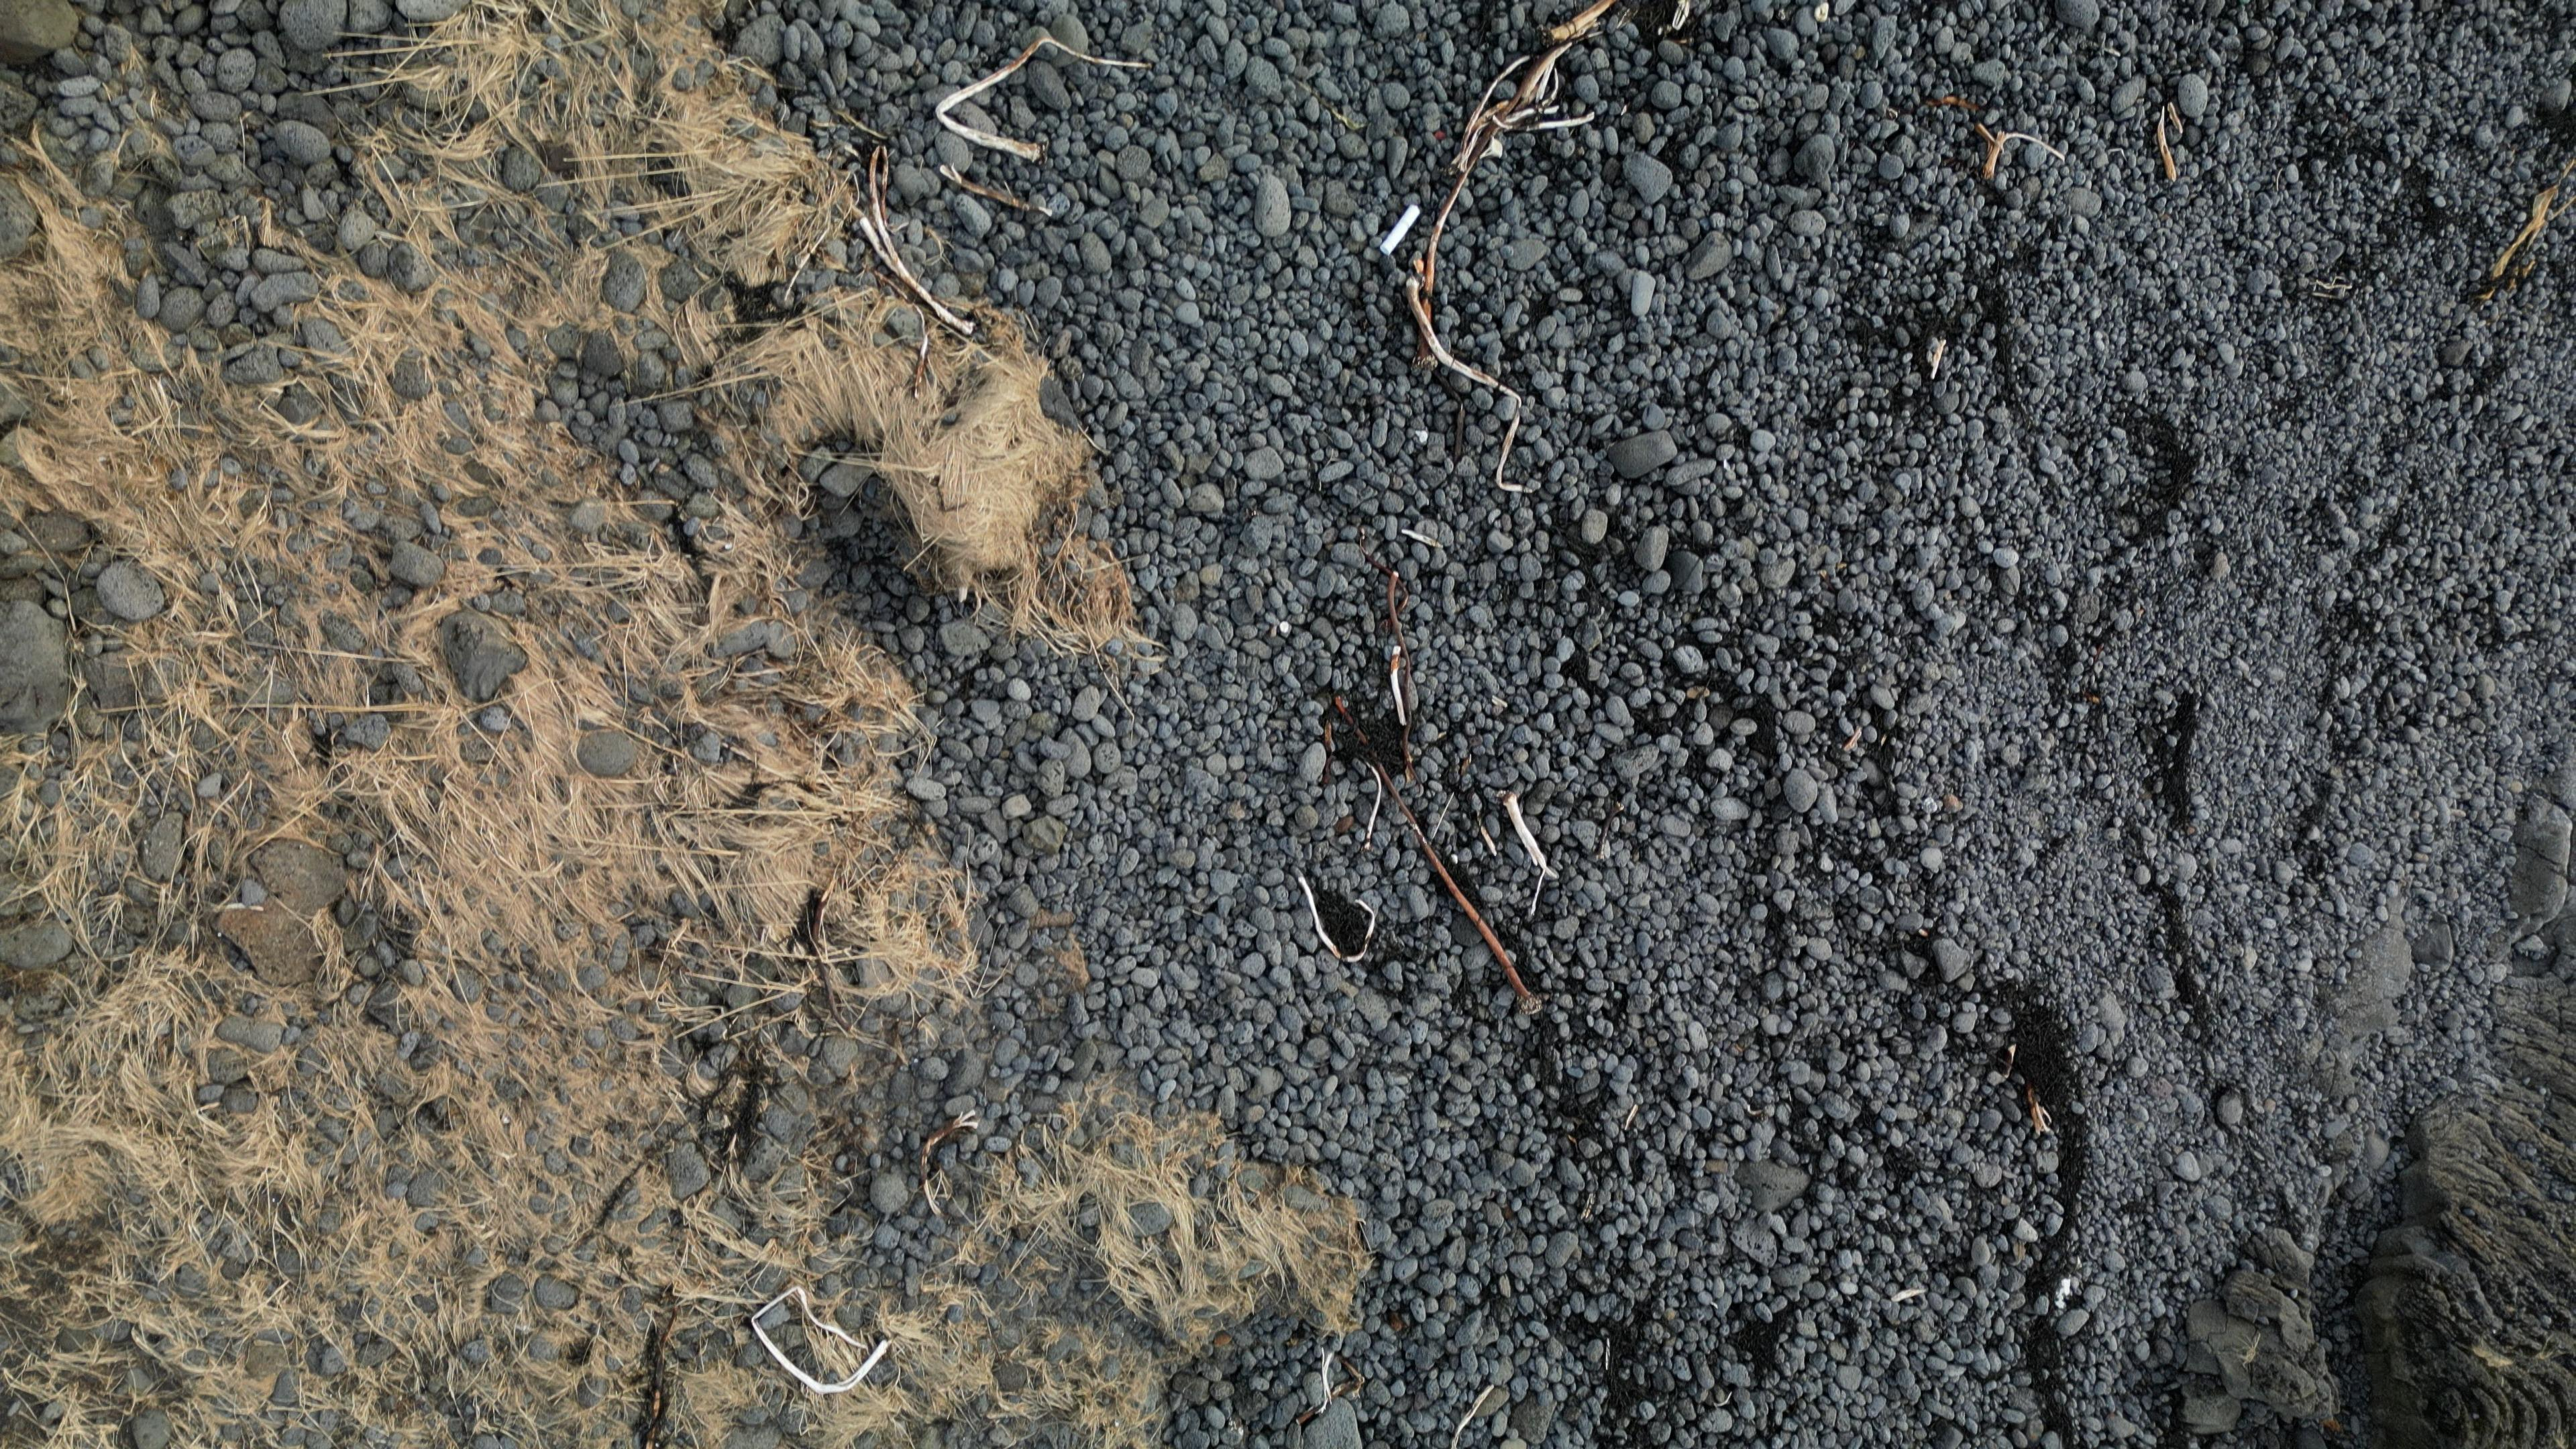trash: (1379, 201, 1419, 256)
